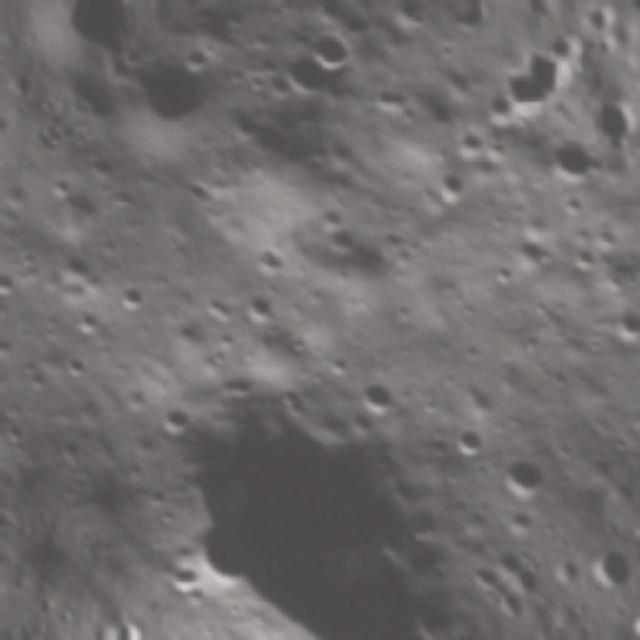crater: (112, 358, 492, 640), (114, 31, 223, 140), (534, 123, 609, 199), (483, 438, 555, 511), (337, 360, 403, 428), (270, 43, 336, 111), (296, 16, 362, 82), (496, 228, 552, 284), (46, 244, 100, 298), (225, 281, 278, 334), (468, 81, 518, 132), (105, 277, 152, 325), (148, 394, 195, 441), (51, 342, 97, 388), (600, 300, 640, 352), (444, 423, 488, 465), (176, 170, 218, 213), (562, 237, 603, 278), (0, 224, 23, 284), (638, 363, 640, 400)
